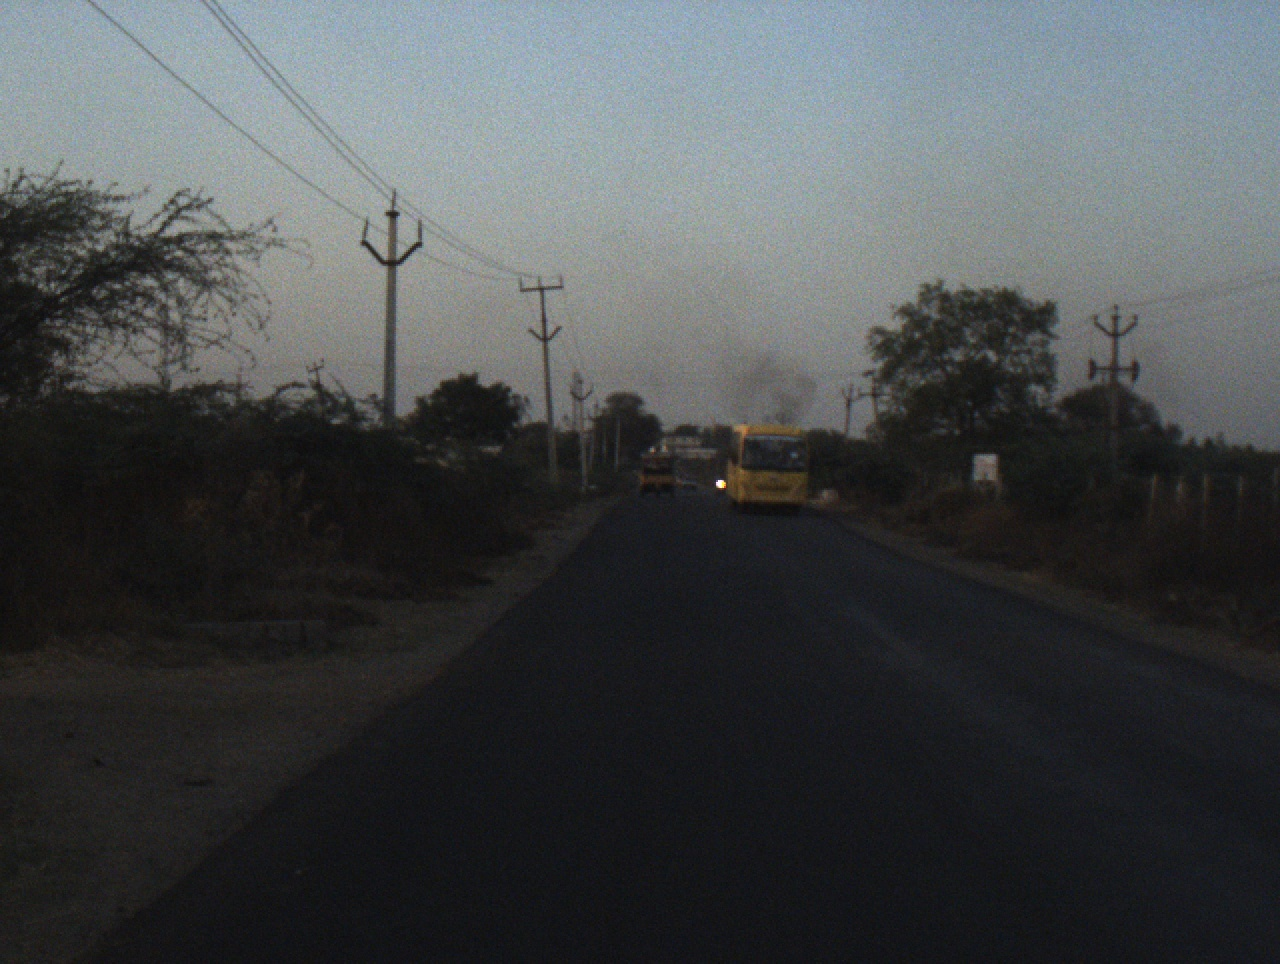autorickshaw: (634, 448, 681, 501)
bus: (725, 418, 810, 516)
car: (679, 471, 694, 490)
vehicle fallback: (711, 475, 728, 494)
